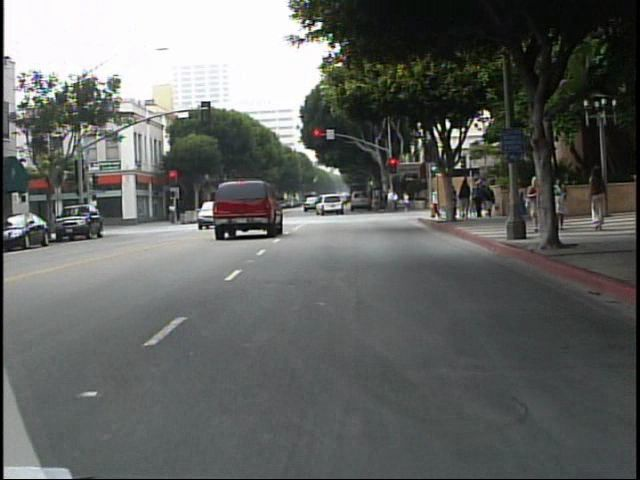person: (586, 167, 611, 233), (525, 174, 541, 238), (552, 175, 569, 233), (457, 177, 473, 223), (428, 188, 443, 220), (167, 199, 180, 229)
